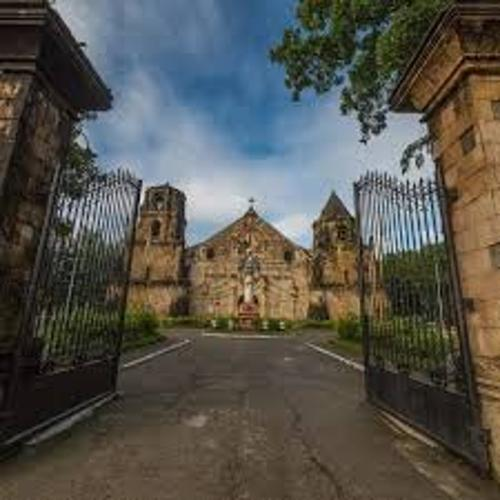Miagao Church: (112, 163, 398, 342)
